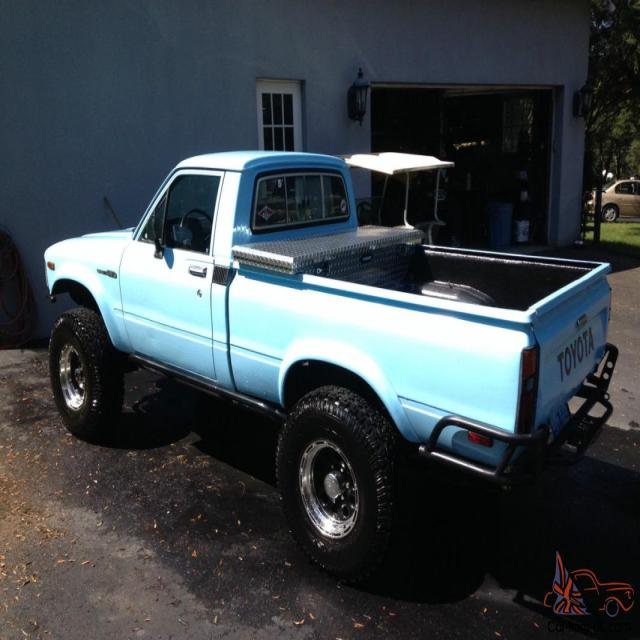light_vehicle: (50, 138, 615, 587)
